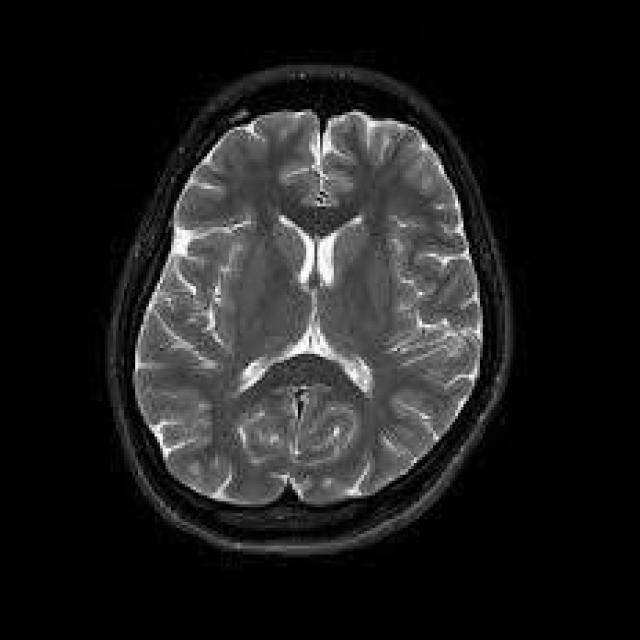notumor: (108, 65, 510, 552)
